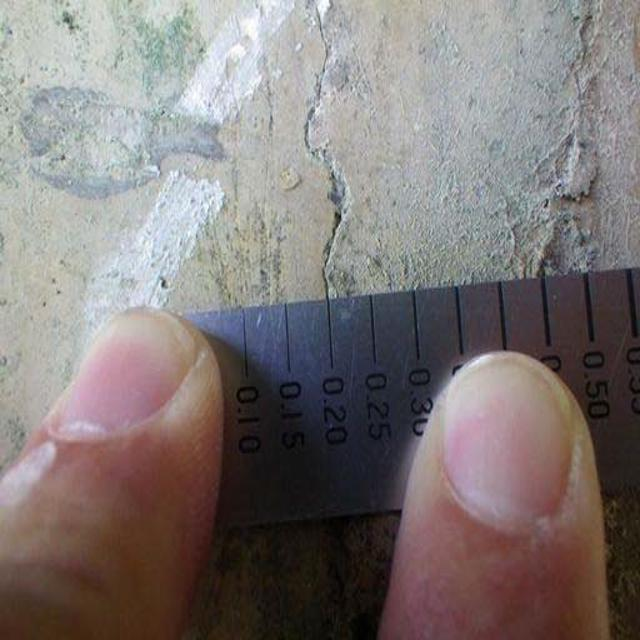crack: (294, 8, 364, 302)
